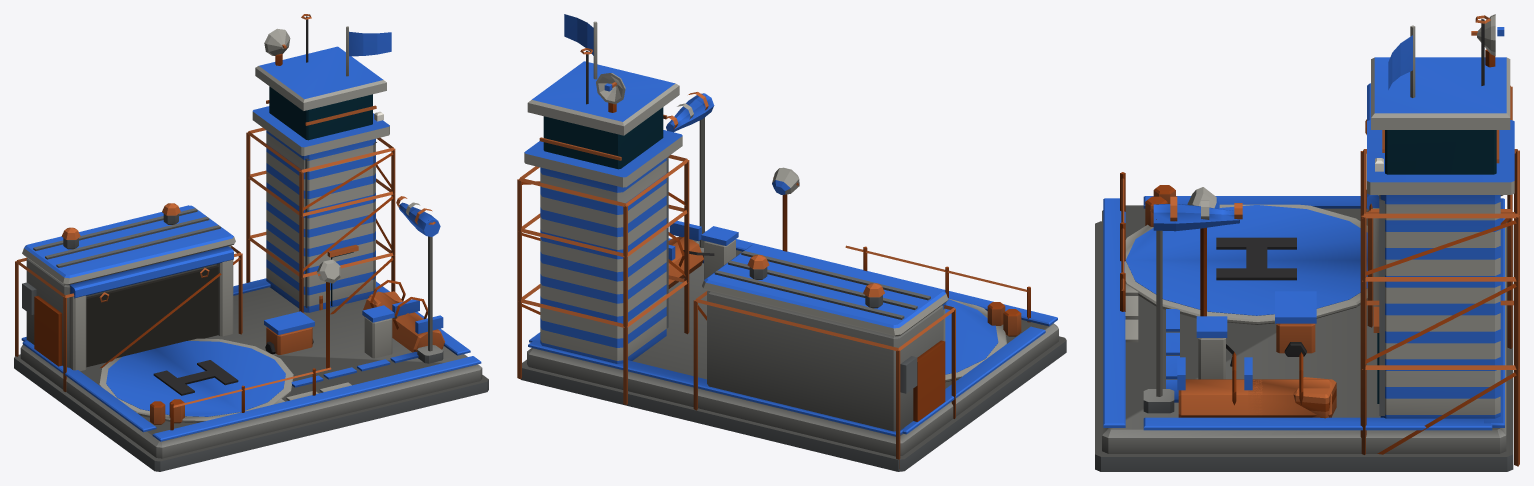
The picture shows the model from 3 angles, left to right: view 1: azimuth 30°, elevation 25°; view 2: azimuth 150°, elevation 25°; view 3: azimuth 270°, elevation 25°; orthographic projection. The views are drawn at different scales.
Visible parts, largest first — view 1: body, scaffoldFrame, scaffoldHangar, swayFlag, swayWindsock, spinRadar; view 2: body, scaffoldFrame, scaffoldHangar, swayWindsock, swayFlag, spinRadar; view 3: body, scaffoldFrame, swayWindsock, scaffoldHangar, swayFlag, spinRadar.
Part boxes in pixels (box(x1,y1,x2,y2)): body: box(14, 14, 488, 471); scaffoldFrame: box(246, 127, 395, 314); scaffoldHangar: box(15, 245, 242, 391); swayFlag: box(349, 31, 391, 56); swayWindsock: box(396, 196, 440, 236); spinRadar: box(264, 28, 290, 55); body: box(521, 21, 1066, 471); scaffoldFrame: box(517, 155, 689, 405); scaffoldHangar: box(693, 290, 955, 468); swayWindsock: box(666, 92, 714, 132); swayFlag: box(564, 14, 593, 55); spinRadar: box(596, 73, 625, 104); body: box(1095, 15, 1514, 471); scaffoldFrame: box(1360, 149, 1519, 466); swayWindsock: box(1153, 196, 1242, 231); scaffoldHangar: box(1367, 85, 1512, 348); swayFlag: box(1388, 35, 1412, 89); spinRadar: box(1471, 14, 1504, 55).
Bounding box in the file's own units: 4.02 × 3.34 × 3.05.
